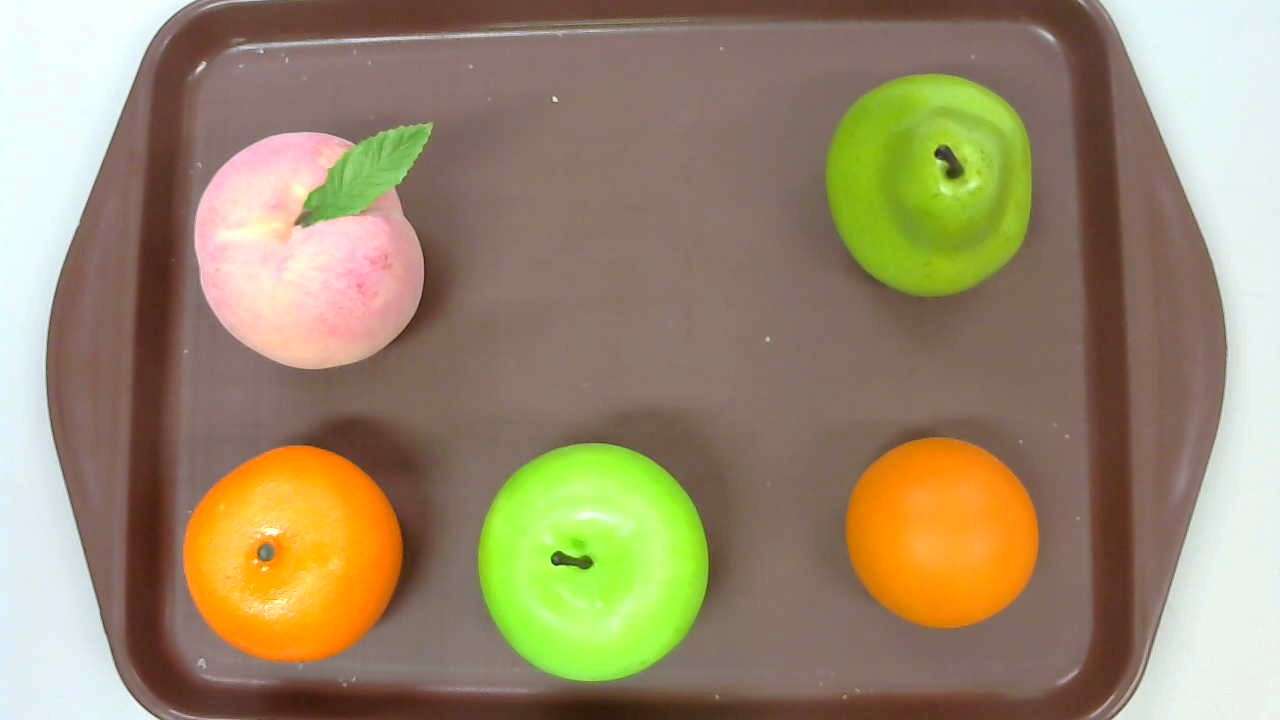bun: (845, 435, 1039, 629)
green apple: (478, 442, 711, 682)
green pear: (826, 73, 1032, 299)
orange: (181, 445, 403, 661)
peaches: (194, 122, 435, 371)
